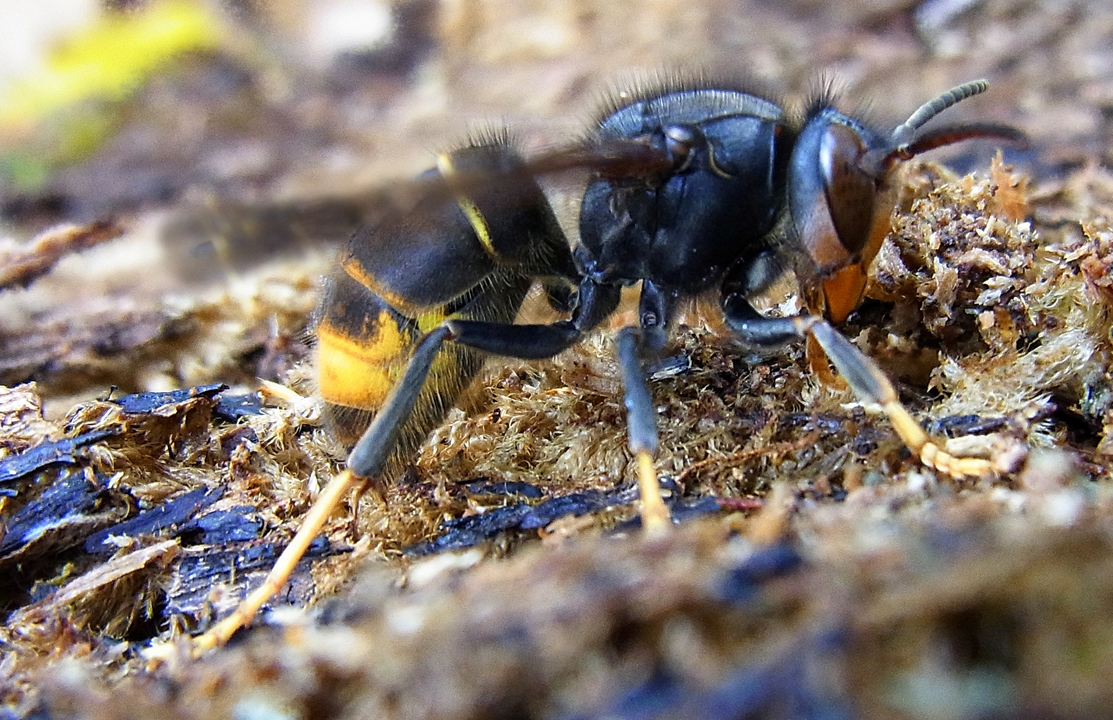hornet: (252, 78, 1049, 540)
